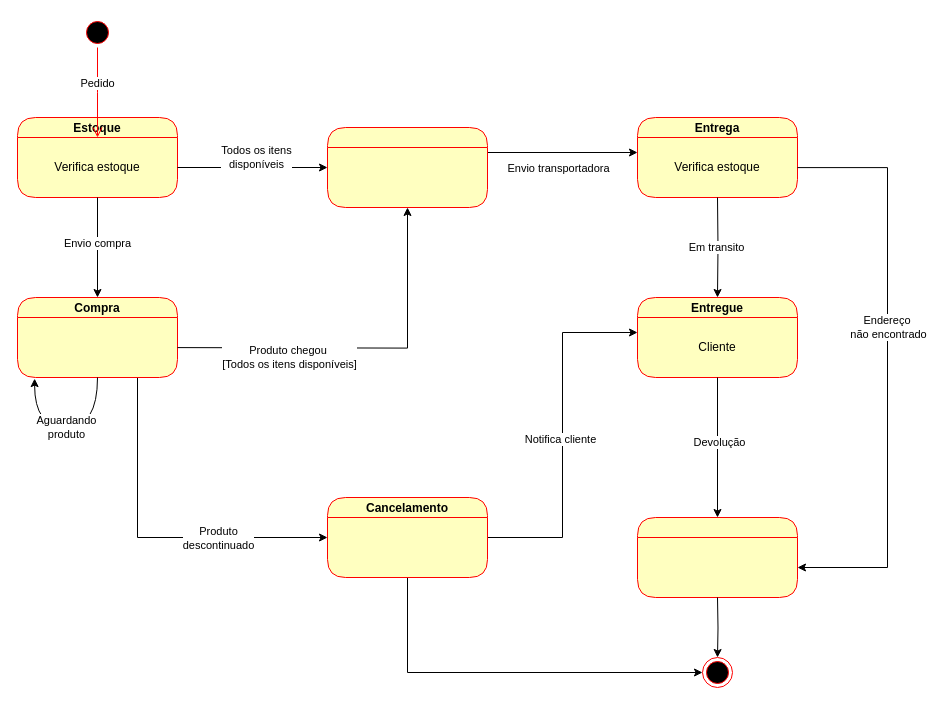
Some shapes in this 943 by 705 pixel diagram are drawn without their labels. Here are the shapes that lost their labels. From the top down, the centre of each, then its label:
At point (407, 167): "Embalando".
At point (717, 557): "Retorno".
